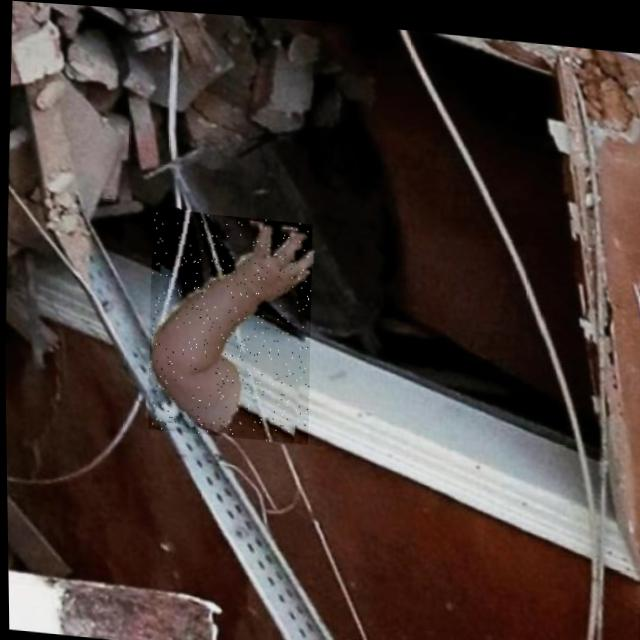Person in Rubble: (143, 205, 313, 440)
